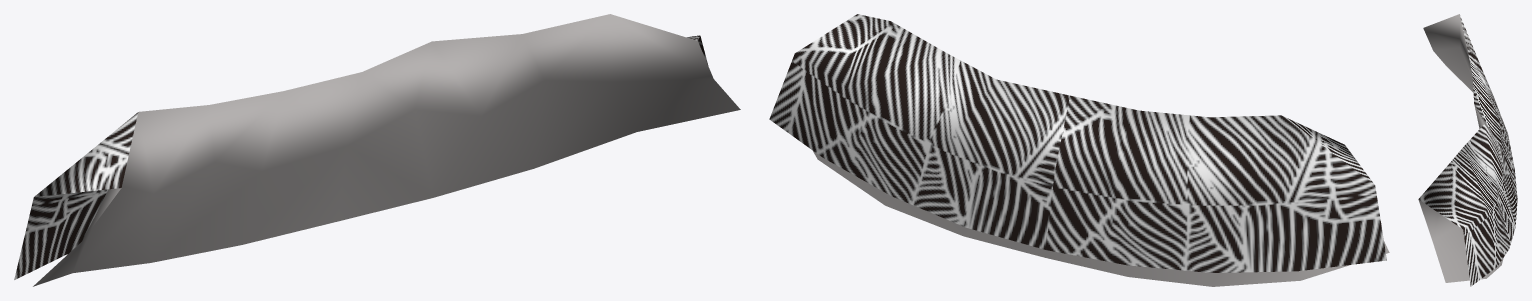
The model's file is Kerah.fbx.
3 views of the same model, side by side, from view 1: azimuth 30°, elevation 25°; view 2: azimuth 150°, elevation 25°; view 3: azimuth 270°, elevation 25° (orthographic). The views are drawn at different scales.
Parts seen in each view (by area): view 1: Kerah.006; view 2: Kerah.006; view 3: Kerah.006.
Part boxes in pixels (bbox=[...]): Kerah.006: bbox=[14, 14, 740, 286]; Kerah.006: bbox=[769, 14, 1389, 286]; Kerah.006: bbox=[1418, 14, 1517, 286].
Size of the model in its own units: 145 by 37.87 by 27.34.
Materials: 2 (1 with a texture image).
